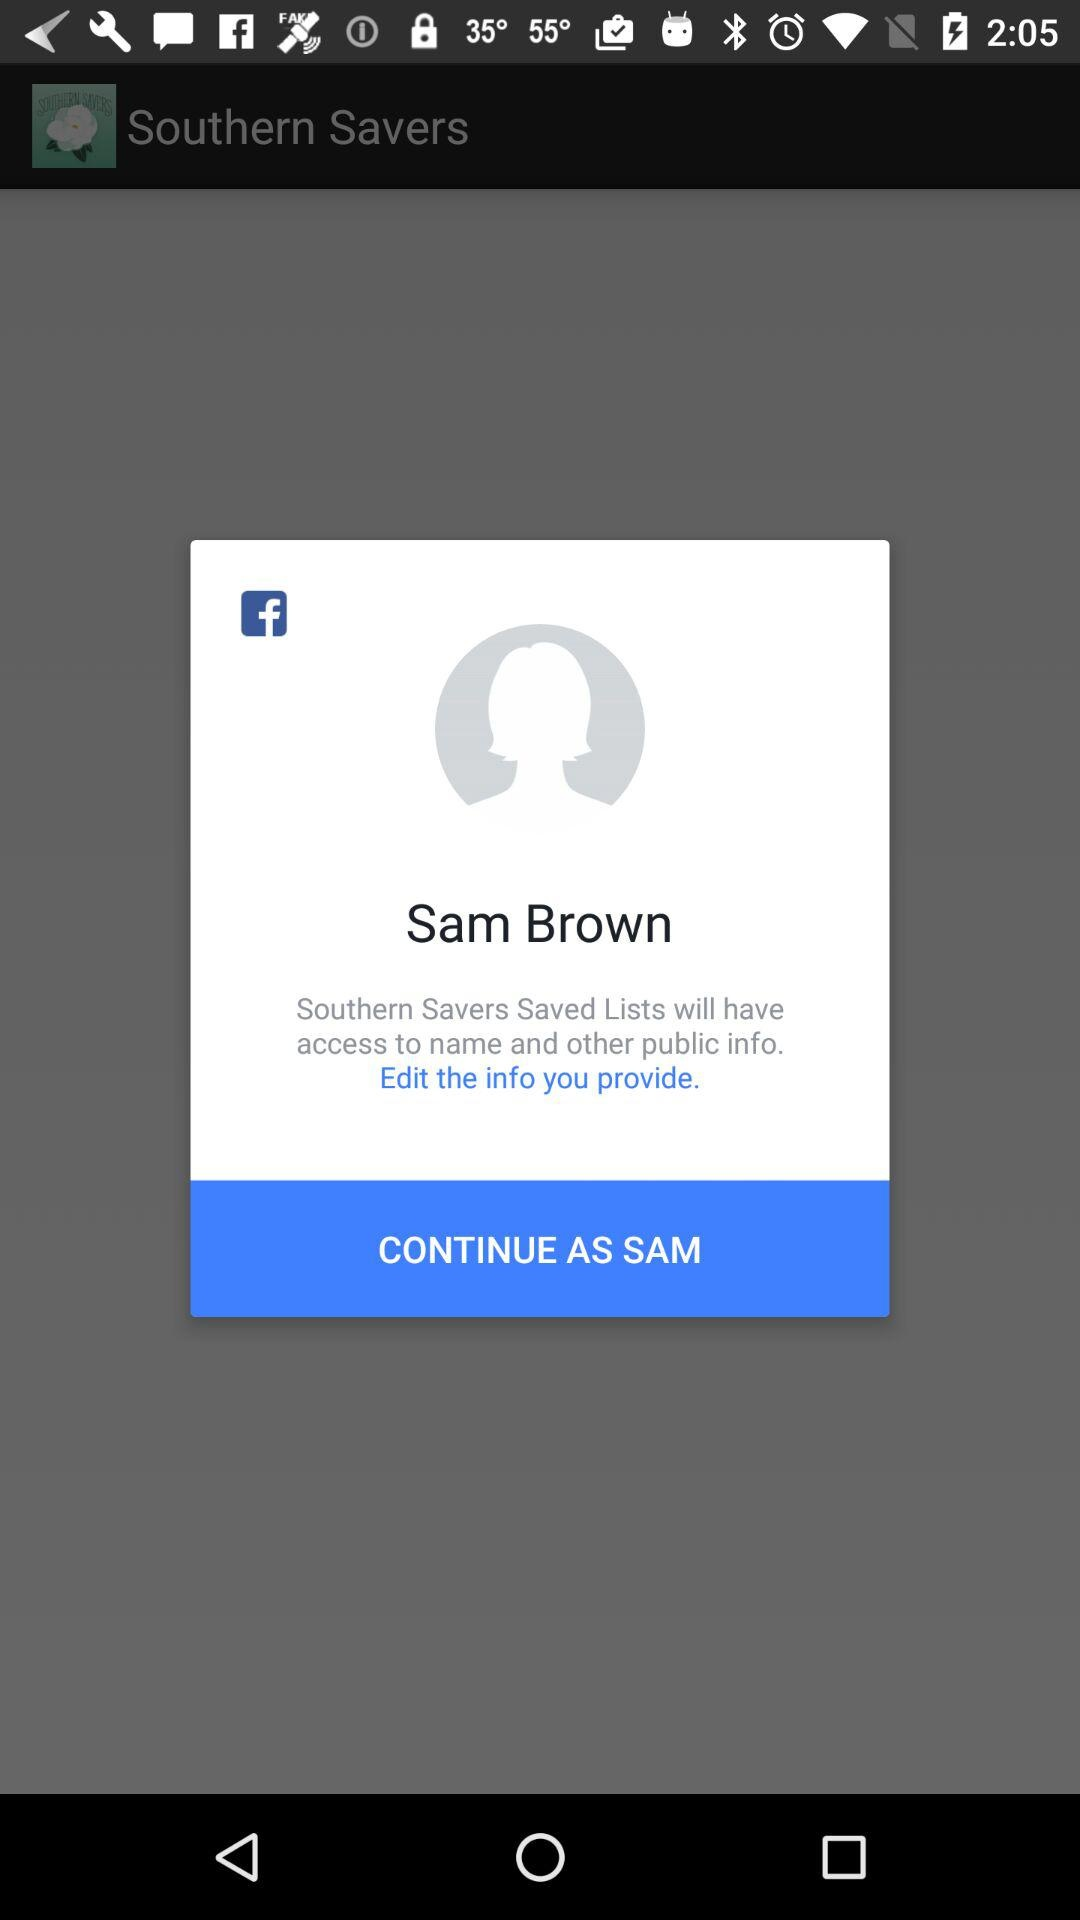Button: (190, 1180, 890, 1317)
ImageView: (171, 514, 909, 1342)
TextView: (274, 988, 806, 1096), (406, 886, 674, 956)
